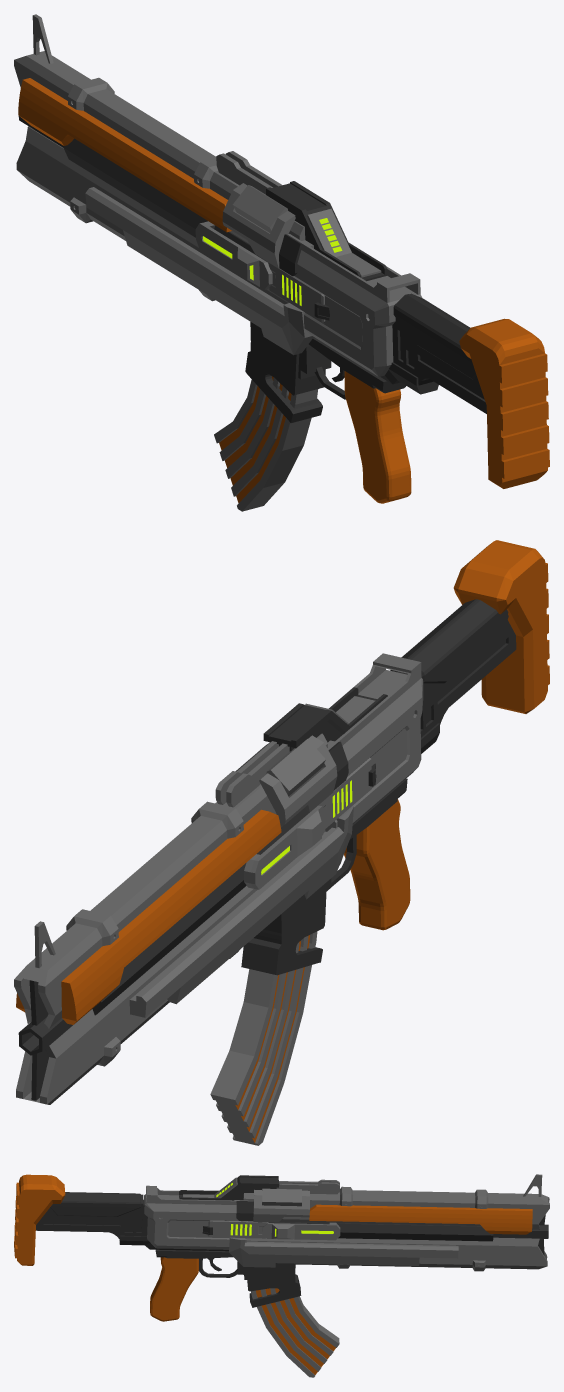
The picture shows the model from 3 angles, top to bottom: view 1: azimuth 30°, elevation 25°; view 2: azimuth 150°, elevation 25°; view 3: azimuth 270°, elevation 25°; orthographic projection. The views are drawn at different scales.
Parts seen in each view (by area): view 1: m4; view 2: m4; view 3: m4.
Part boxes in pixels (<box>): m4: <box>14,14,549,511</box>; m4: <box>14,540,549,1145</box>; m4: <box>14,1174,549,1377</box>.
Size of the model in its own units: 0.0866 by 0.3847 by 0.9405.
